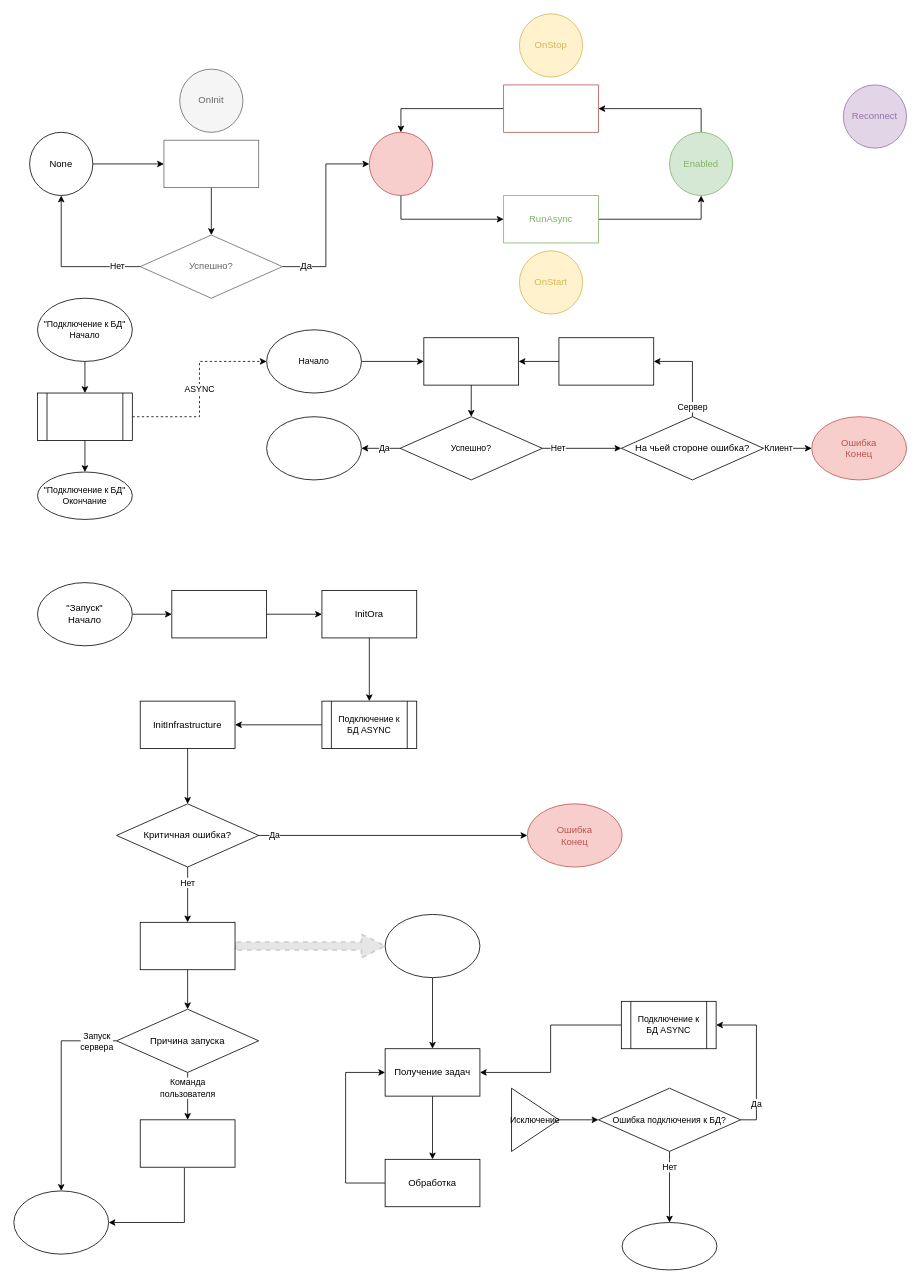
This 920x1284 diagram has some shape labels left out. The shapes that lost their labels are listed below. From the top down, each one's box as (x1, y1, x2, y2) in pixels, then its label:
(503, 84, 598, 132): StopAsync
(163, 139, 259, 188): LoadSettingsAsync
(369, 132, 433, 196): Disabled
(423, 337, 519, 385): Попытка подключения
(558, 337, 654, 385): Выдержать паузу
(37, 392, 132, 440): Создать задачу с процедурой:
(266, 416, 361, 480): Успешно Конец
(171, 590, 267, 638): InitCancellToken
(139, 922, 235, 970): Запустить InfBase
(384, 914, 480, 978): "Поток обработки" Начало
(139, 1119, 235, 1167): Сохранить состояние InfBase
(13, 1190, 109, 1254): "Запуск" Окончание
(621, 1222, 717, 1270): Далее...
